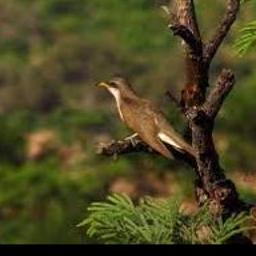Cuckoo: (99, 75, 199, 160)
